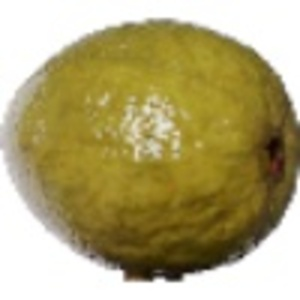goiaba: (4, 14, 297, 273)
